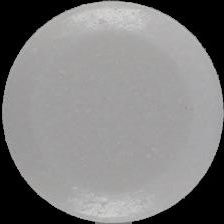54868-4744: (0, 0, 224, 224)
